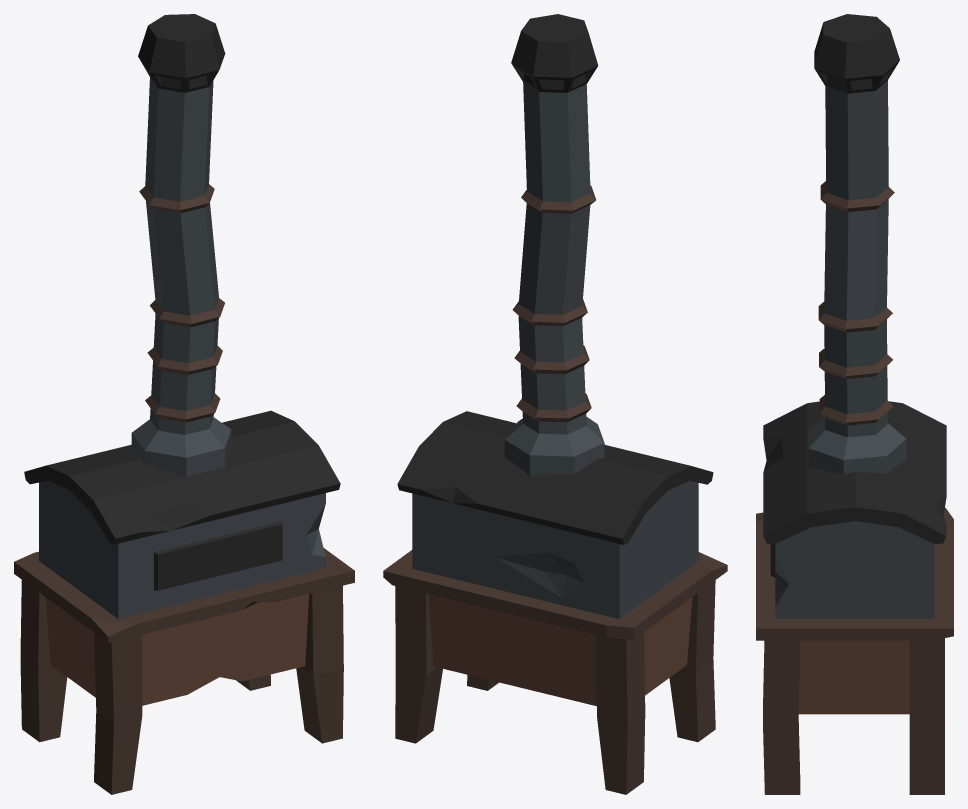
The model's file is LPHorror_Smelter.fbx.
3 renders of one model, left to right at view 1: azimuth 30°, elevation 25°; view 2: azimuth 150°, elevation 25°; view 3: azimuth 270°, elevation 25°, orthographic.
Visible parts, largest first — view 1: Smelter; view 2: Smelter; view 3: Smelter.
Part boxes in pixels (x1,y1,x2,y2): Smelter: [14, 14, 354, 794]; Smelter: [383, 14, 727, 794]; Smelter: [756, 14, 953, 794].
Size of the model in its own units: 111 by 304 by 76.9.
